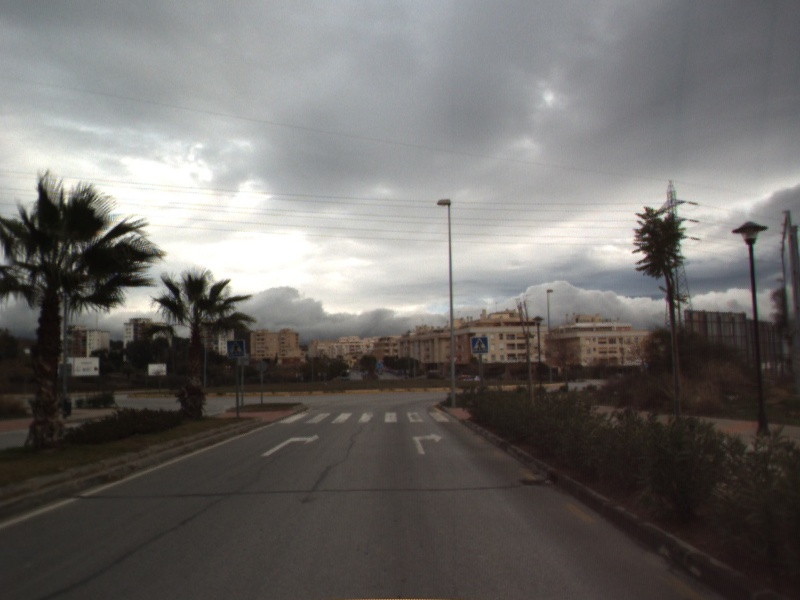RIGHT: (259, 432, 321, 458), (410, 431, 445, 456)
